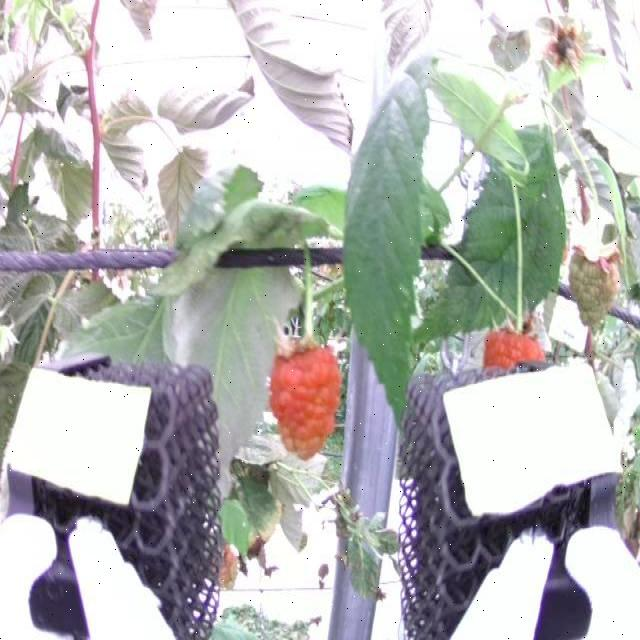Riped berries: (266, 332, 344, 460), (481, 318, 548, 375)
